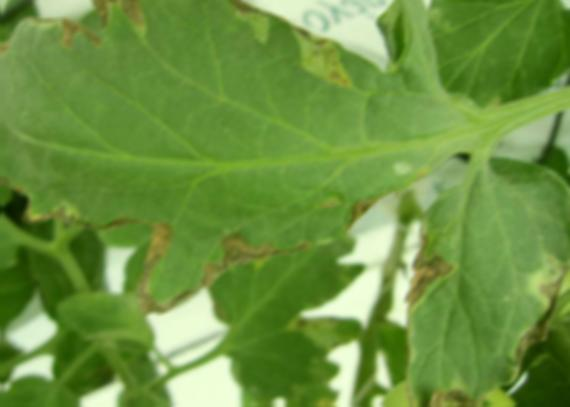Tomato leaf bacterial spot: (0, 0, 448, 315), (391, 137, 570, 407)
